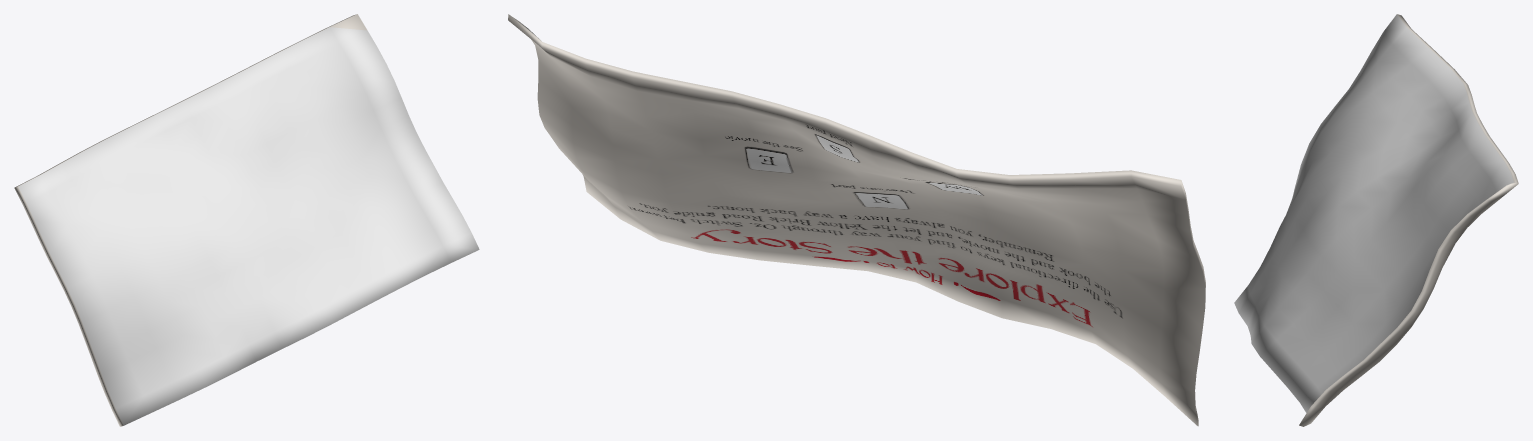
Rendered from regras2.glb.
3 views of the same model, side by side, from view 1: azimuth 30°, elevation 25°; view 2: azimuth 150°, elevation 25°; view 3: azimuth 270°, elevation 25° (orthographic). The views are drawn at different scales.
Parts seen in each view (by area): view 1: About.001; view 2: About.001; view 3: About.001.
Boxes of the visible parts, box(x1,y1,x2,y2) form: About.001: box(14, 14, 479, 426); About.001: box(508, 14, 1205, 426); About.001: box(1234, 14, 1518, 426).
Size of the model in its own units: 0.0888 by 0.0513 by 0.043.
2 materials, 1 textured.
